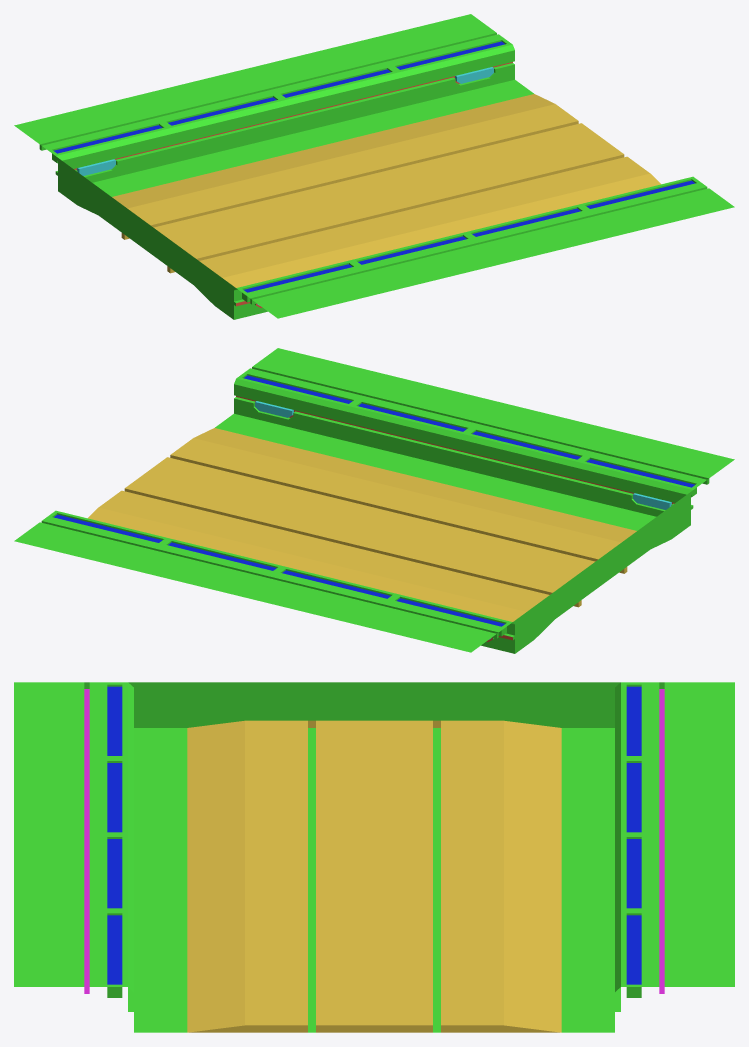
File: Interior_Deco_10_Edge.fbx
The picture shows the model from 3 angles, top to bottom: view 1: azimuth 30°, elevation 25°; view 2: azimuth 150°, elevation 25°; view 3: azimuth 270°, elevation 25°; orthographic projection. The views are drawn at different scales.
Parts seen in each view (by area): view 1: Interior_Deco_10_Edge; view 2: Interior_Deco_10_Edge; view 3: Interior_Deco_10_Edge.
Boxes of the visible parts, box(x1,y1,x2,y2) form: Interior_Deco_10_Edge: box(14, 14, 734, 319); Interior_Deco_10_Edge: box(14, 348, 734, 653); Interior_Deco_10_Edge: box(14, 682, 734, 1032).
Bounding box in the file's own units: 457 × 32 × 457.
